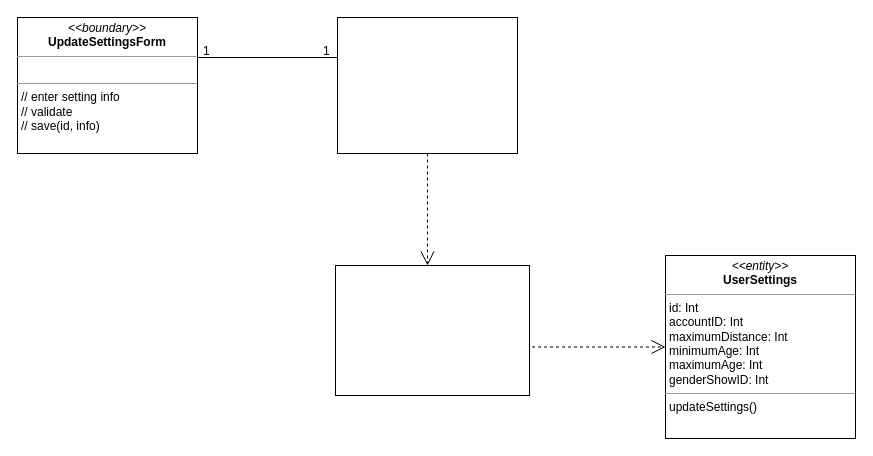
Image size: 873x456. Some labels were removed from this diagram. The shapes that lost their labels are listed below. From the top down, each one's centre as x and y in pixels, then its label:
pixel 427 85: <<control>> UpdateSettingsController // save(id, info)
pixel 432 330: <<Interface>> IUserSettingsDatabase + save(userSettings: UserSetting )
